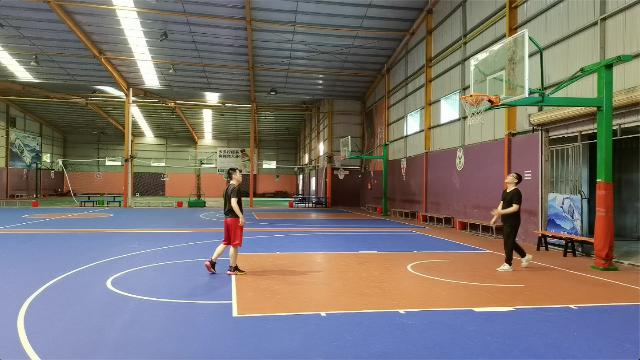basket: (459, 93, 489, 126)
goal: (468, 91, 482, 106)
